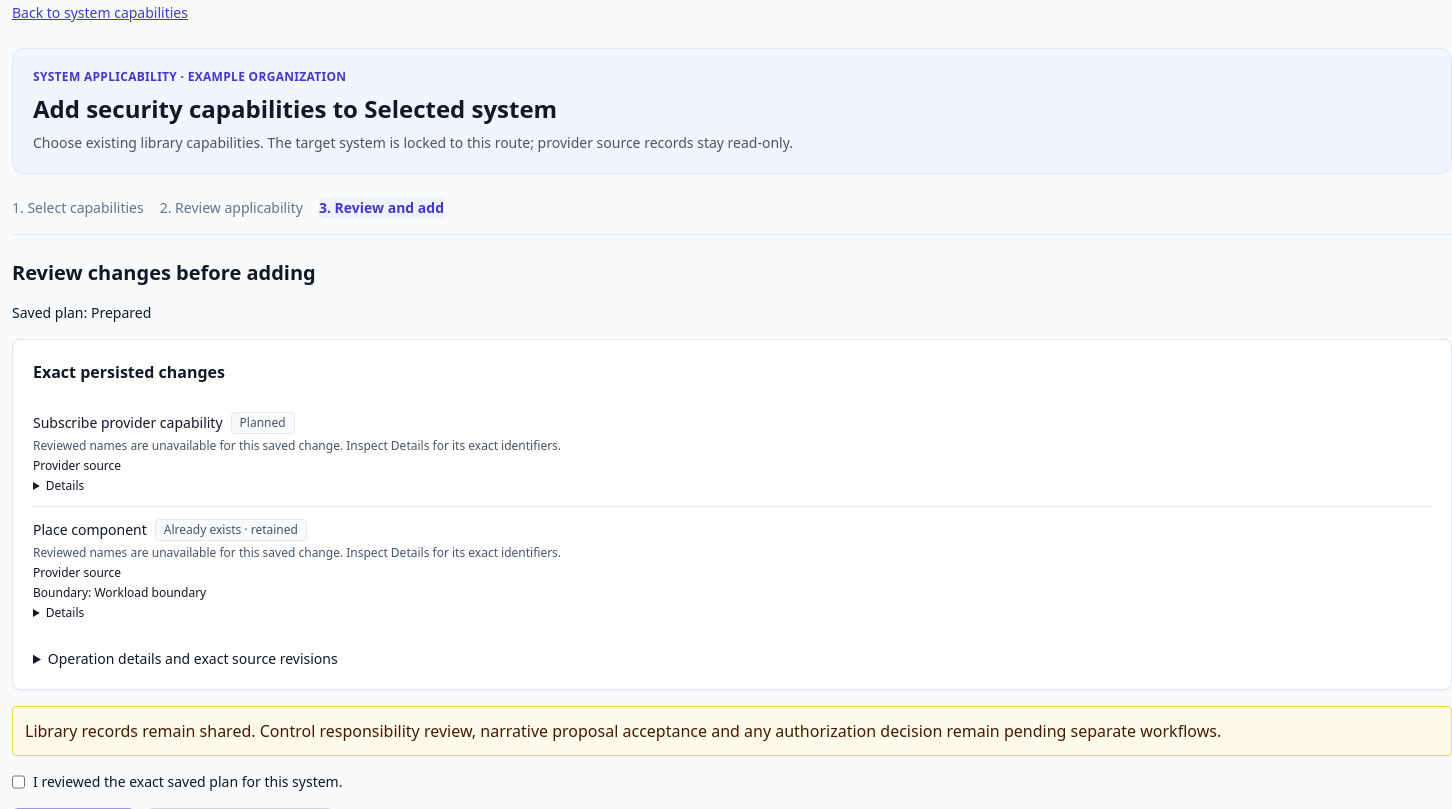
it: Three-step selected-system capability setup › does not allow another execution of a source-stale prepared plan
The image size is (1452, 809).
expect the heading "Review changes before adding" is shown: met, box [12, 259, 316, 286]
Click the checkbox labelled "I reviewed the exact saved plan for this system." at (18, 782), box [12, 772, 25, 792]
(page scrolled)
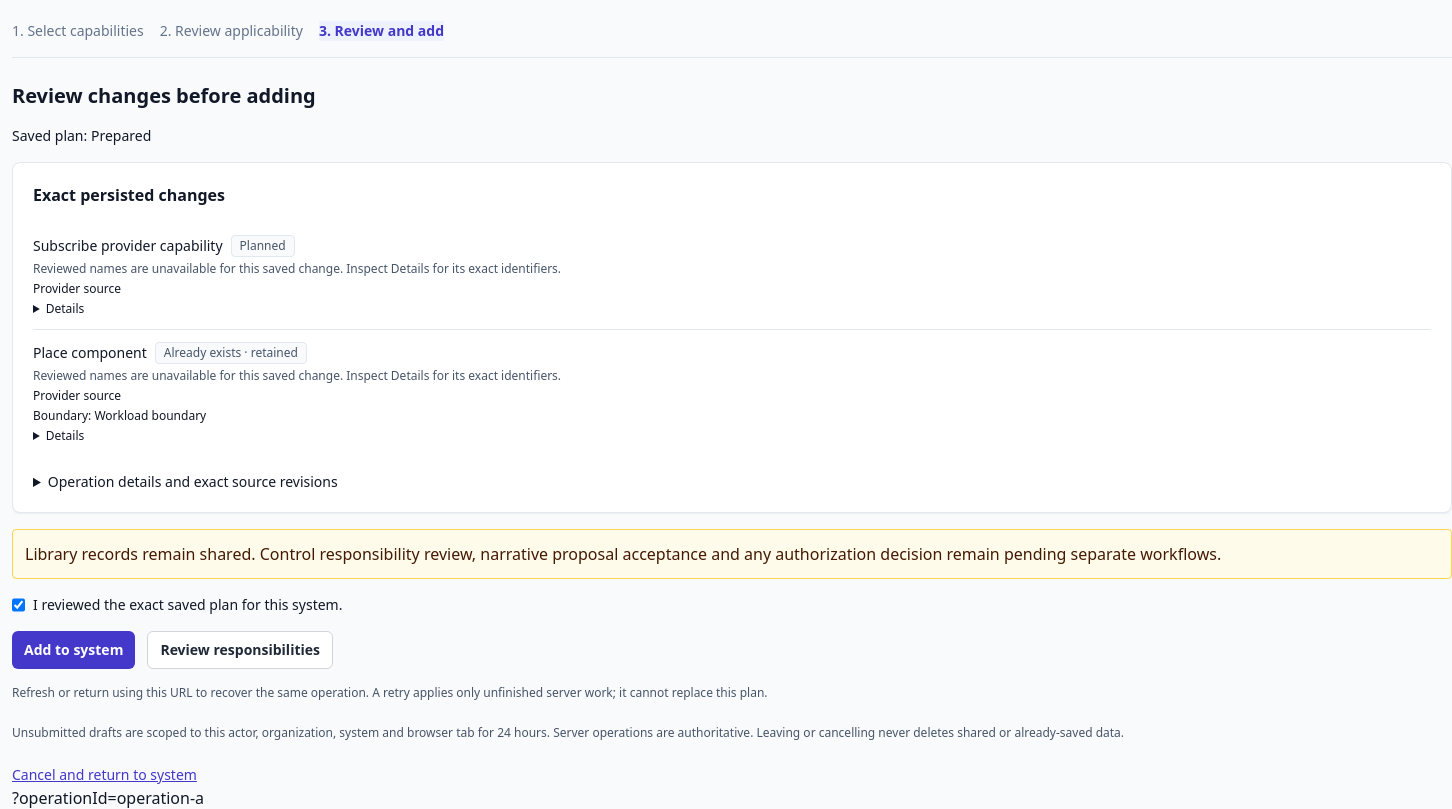
expect the button "Add to system" is enabled: met
Click the button "Add to system" at (74, 650), box [12, 631, 135, 669]
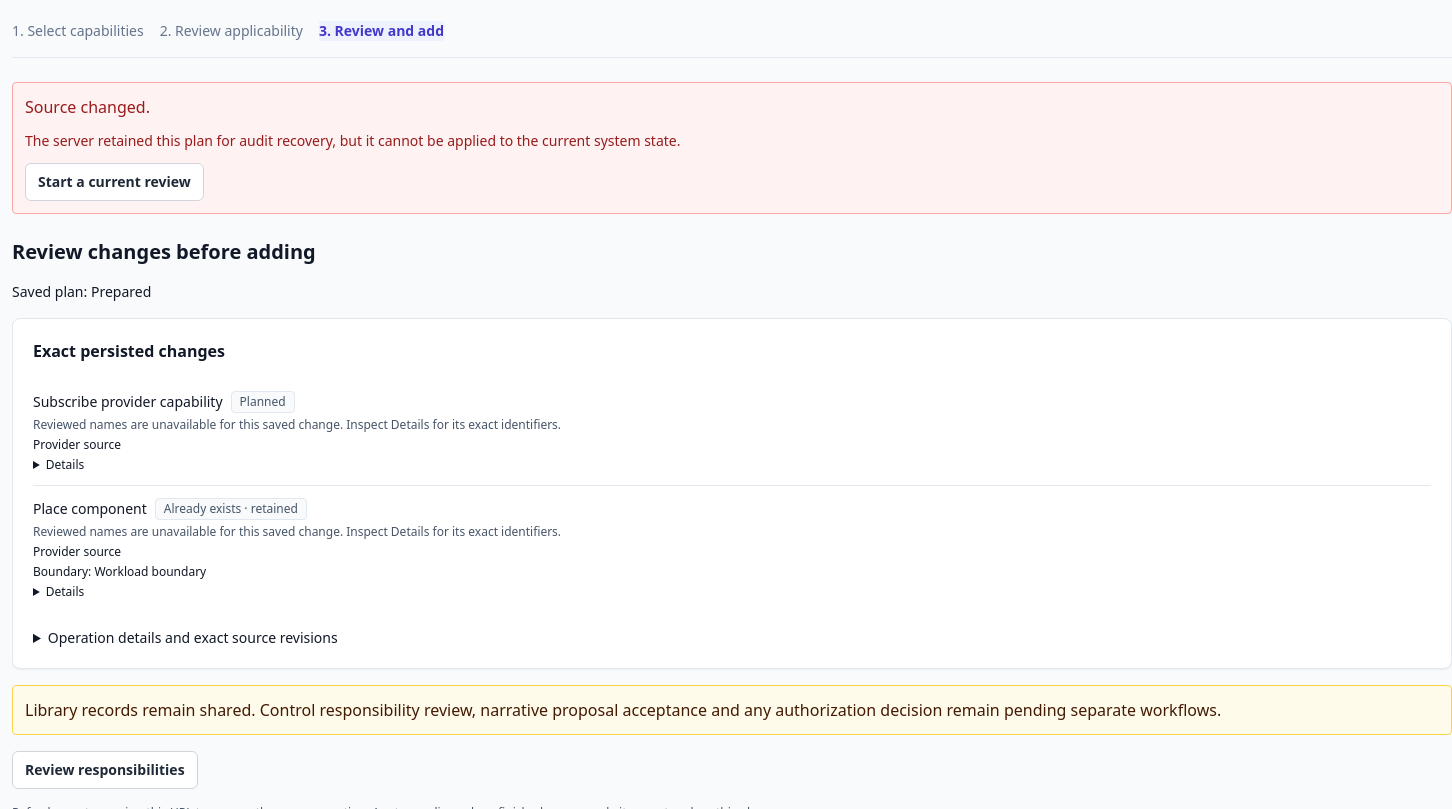
expect the message shows "Source changed.": met, box [25, 96, 150, 118]
expect the button "Start a current review" is shown: met, box [25, 163, 204, 201]
expect the button "Add to system" is gone: met
